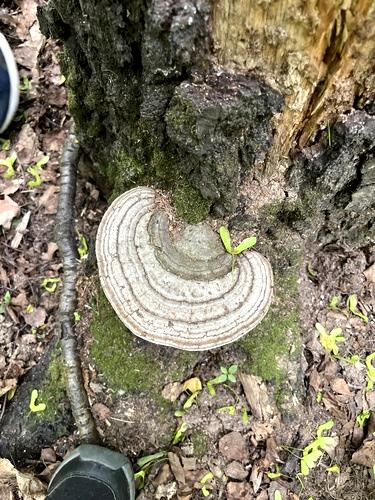Ganoderma - Fruit Body: (90, 188, 284, 357)
